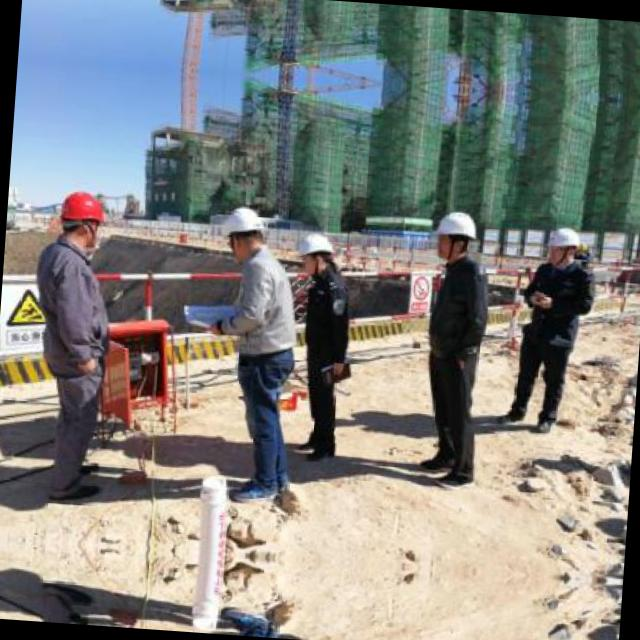helmet: (52, 185, 112, 255), (431, 206, 479, 264), (220, 202, 268, 258), (540, 225, 585, 272), (298, 231, 336, 273)
